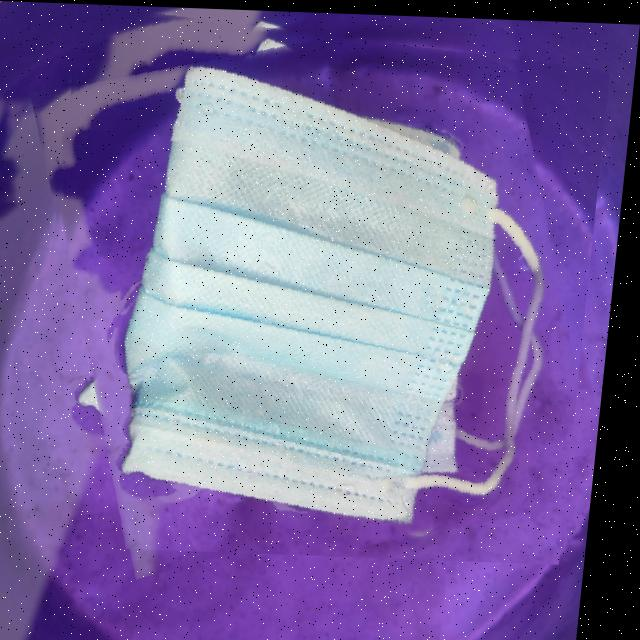mask: (29, 2, 615, 559)
